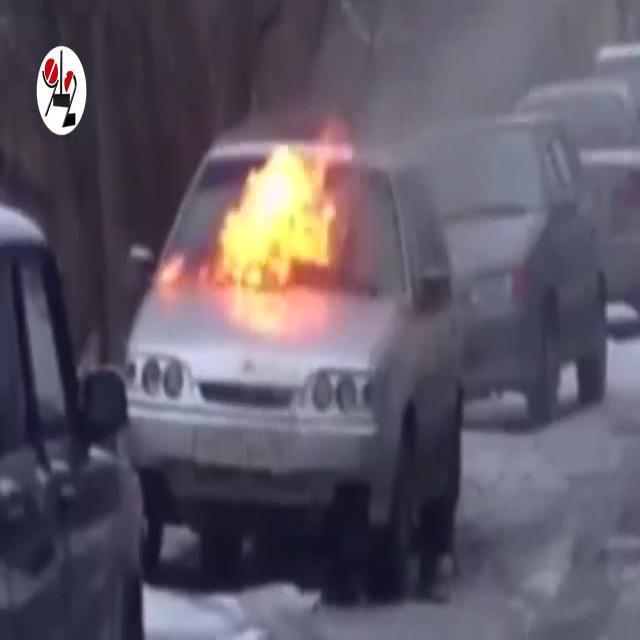Fire: (205, 126, 361, 308)
Smoke: (320, 0, 542, 253)
